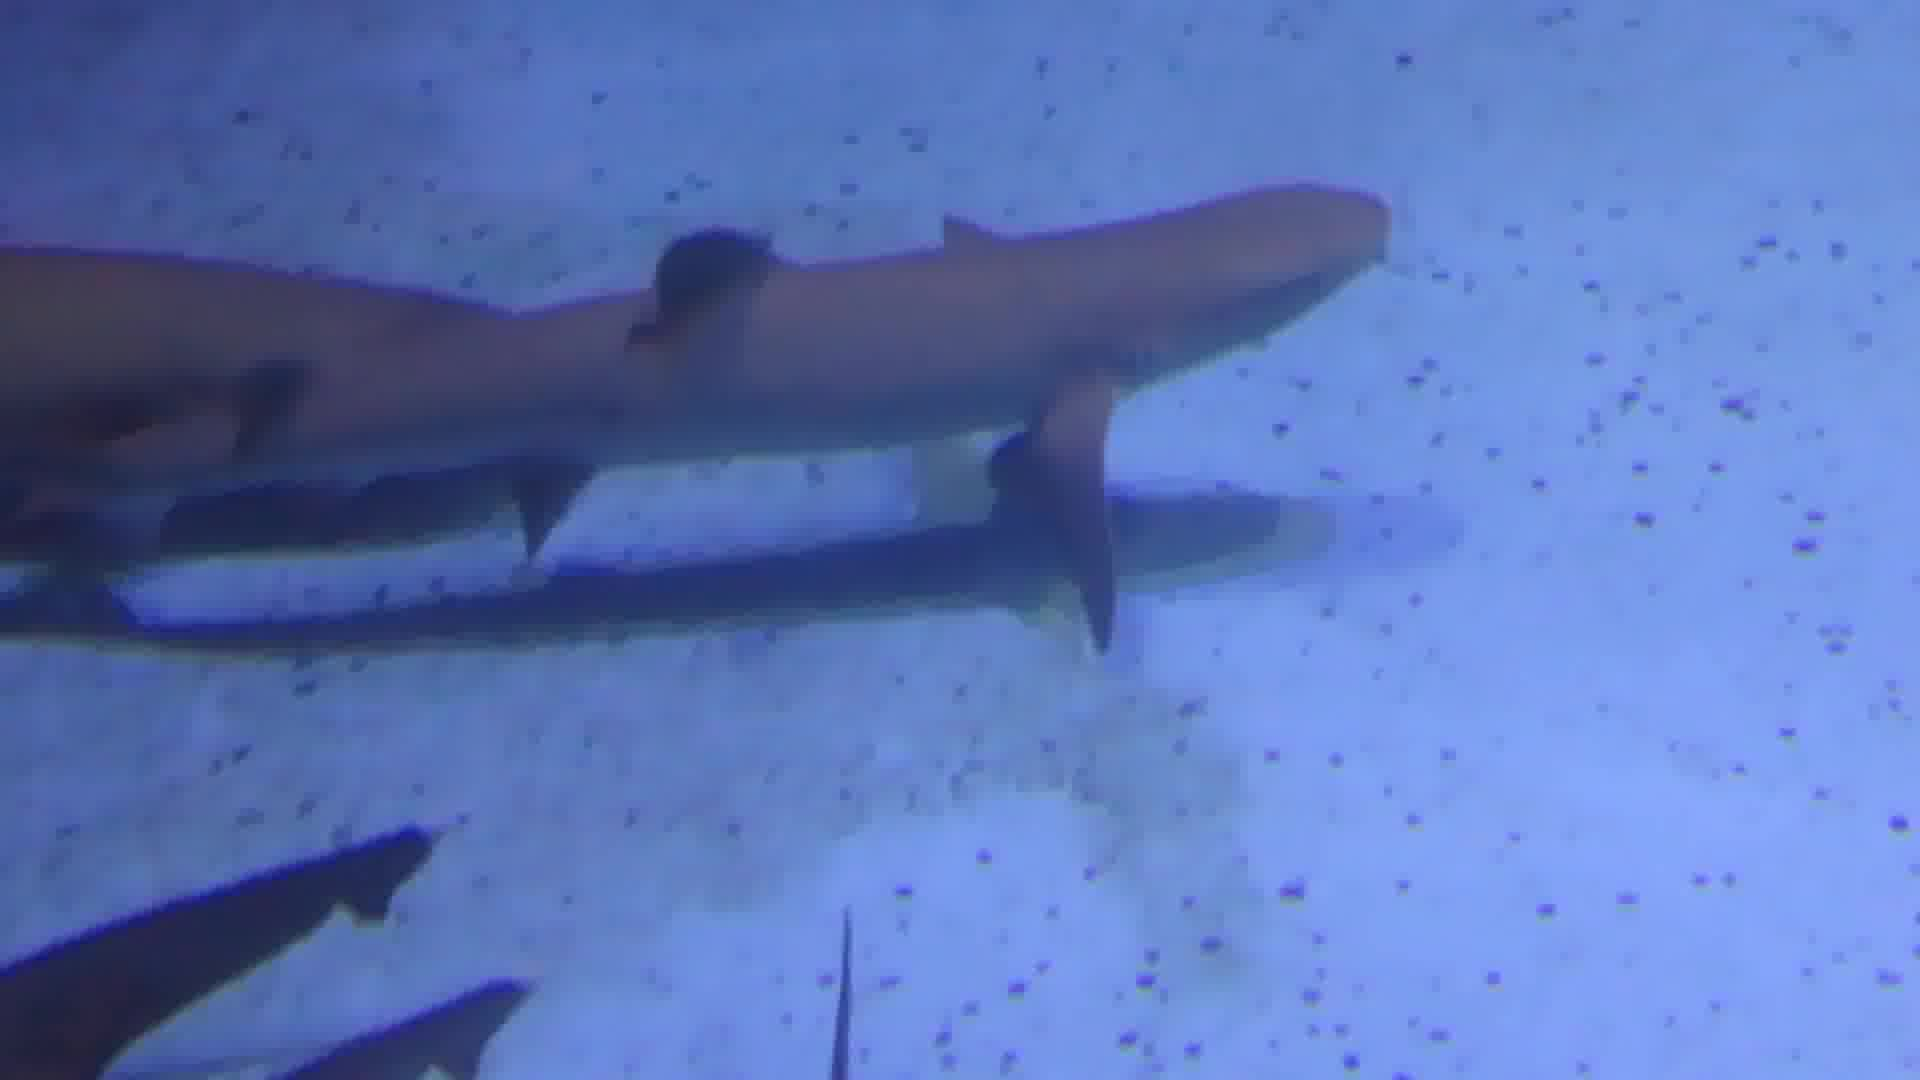Triaenodon obesus: (21, 160, 1396, 513)
